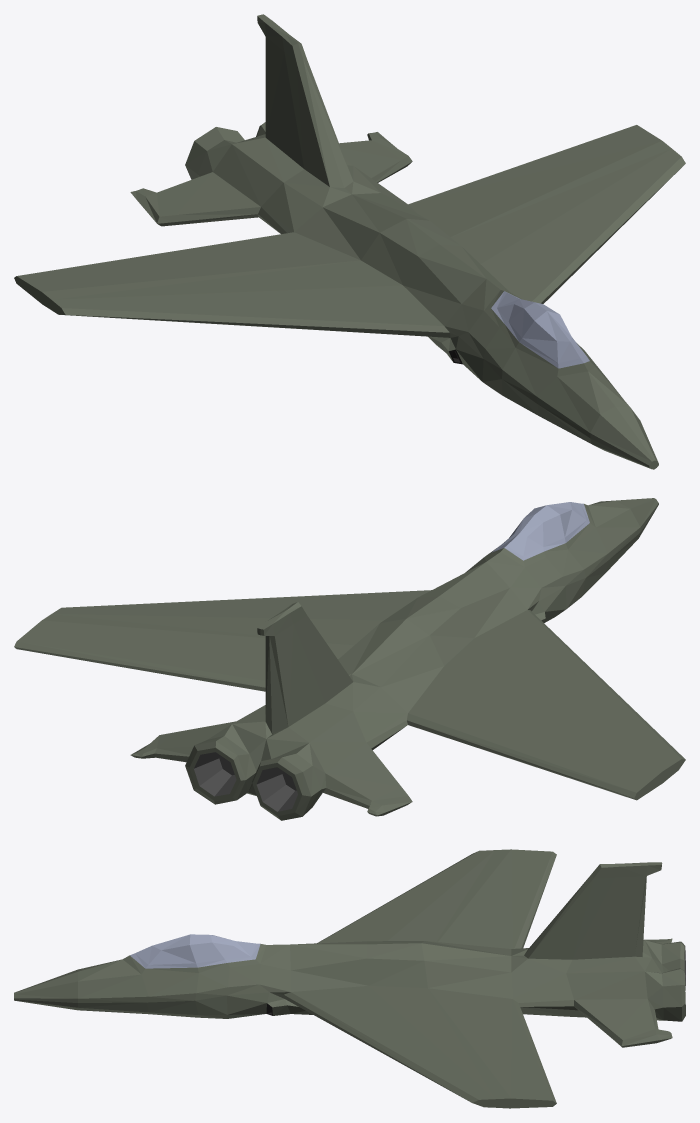
Rendered from player.gltf.
3 views of the same model, one above another, from view 1: azimuth 30°, elevation 25°; view 2: azimuth 150°, elevation 25°; view 3: azimuth 270°, elevation 25° (orthographic). The views are drawn at different scales.
Visible parts, largest first — view 1: Jet; view 2: Jet; view 3: Jet.
Boxes of the visible parts, x1,y1,x2,y2 form: Jet: [14, 14, 685, 469]; Jet: [14, 498, 685, 820]; Jet: [14, 849, 685, 1108].
Size of the model in its own units: 12.12 by 3.37 by 13.82.
